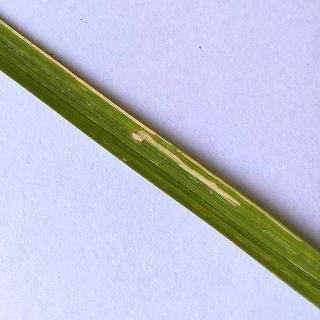Blast: (122, 120, 260, 216)
